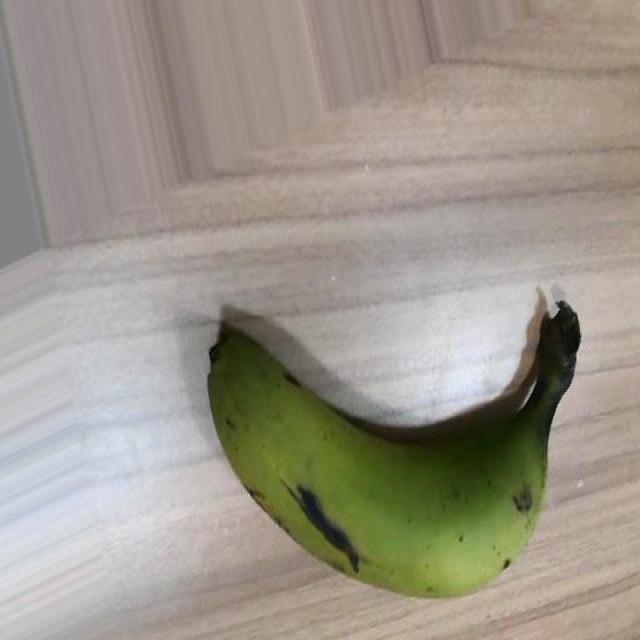Unripe: (206, 299, 582, 595)
